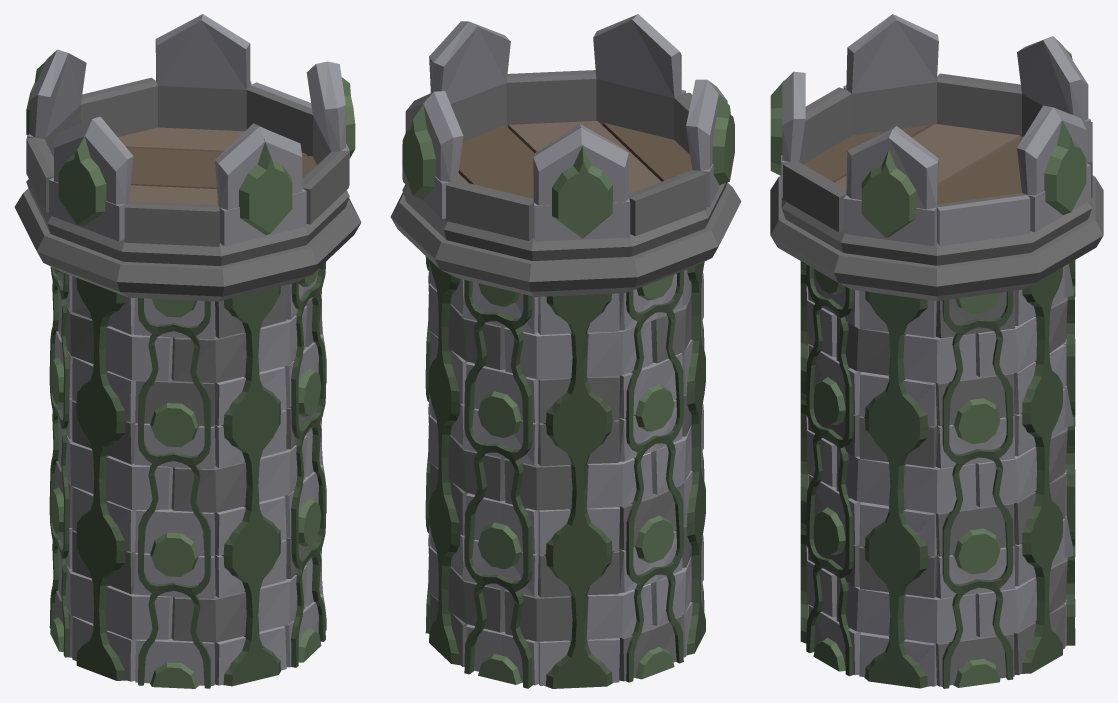
Rendered from tower_4_full.fbx.
The picture shows the model from 3 angles, left to right: view 1: azimuth 30°, elevation 25°; view 2: azimuth 150°, elevation 25°; view 3: azimuth 270°, elevation 25°; orthographic projection.
Visible parts, largest first — view 1: TOWER_4_UP_1, TOWER_4_BASE_1, TOWER_4_BASE_2; view 2: TOWER_4_UP_1, TOWER_4_BASE_1, TOWER_4_BASE_2; view 3: TOWER_4_UP_1, TOWER_4_BASE_1, TOWER_4_BASE_2.
Boxes of the visible parts, x1,y1,x2,y2 form: TOWER_4_UP_1: (14,14,361,429); TOWER_4_BASE_1: (49,498,326,688); TOWER_4_BASE_2: (49,368,326,559); TOWER_4_UP_1: (390,14,741,426); TOWER_4_BASE_1: (425,500,705,688); TOWER_4_BASE_2: (425,369,705,557); TOWER_4_UP_1: (770,14,1103,428); TOWER_4_BASE_1: (800,487,1075,688); TOWER_4_BASE_2: (800,357,1075,558).
Size of the model in its own units: 773 by 1360 by 735.
